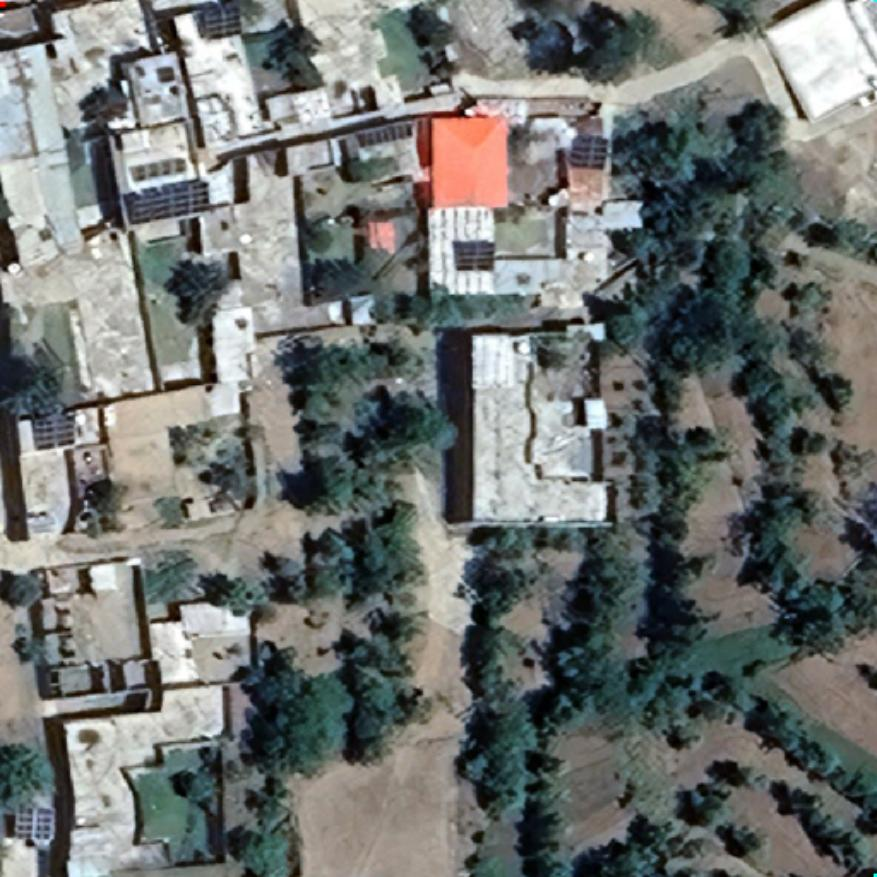Solarpanel: (122, 174, 214, 228), (352, 115, 418, 150), (196, 0, 245, 42), (566, 128, 612, 172), (30, 410, 78, 450), (11, 801, 55, 844), (452, 235, 499, 273)
